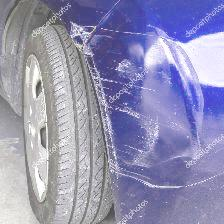bumper_dent: (63, 18, 223, 199)
